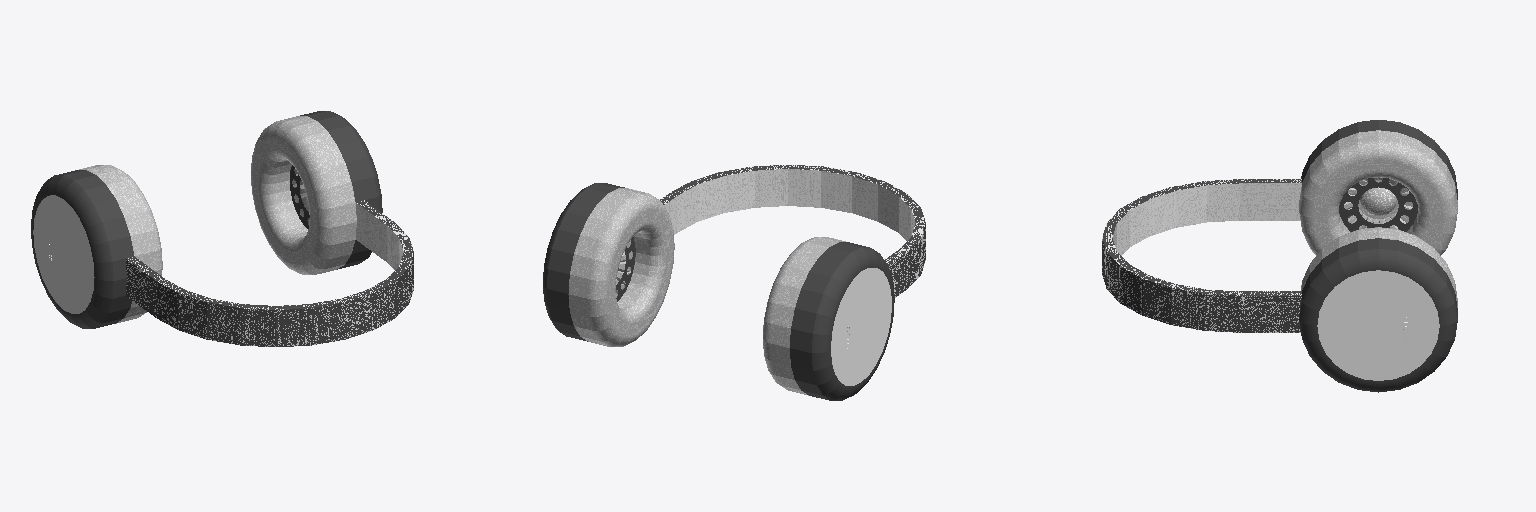
The model's file is model_align.obj.
3 renders of one model, left to right at view 1: azimuth 30°, elevation 25°; view 2: azimuth 150°, elevation 25°; view 3: azimuth 270°, elevation 25°, orthographic.
Parts seen in each view (by area): view 1: mesh39_mesh39-geometry, mesh25_mesh25-geometry, mesh40_mesh40-geometry; view 2: mesh25_mesh25-geometry, mesh39_mesh39-geometry, mesh40_mesh40-geometry; view 3: mesh39_mesh39-geometry, mesh40_mesh40-geometry, mesh25_mesh25-geometry, mesh12_mesh12-geometry.
Part boxes in pixels (x1,y1,x2,y2): mesh39_mesh39-geometry: (251, 111, 382, 274); mesh25_mesh25-geometry: (31, 165, 162, 328); mesh40_mesh40-geometry: (126, 200, 413, 346); mesh25_mesh25-geometry: (763, 237, 894, 400); mesh39_mesh39-geometry: (543, 183, 674, 346); mesh40_mesh40-geometry: (660, 165, 925, 297); mesh39_mesh39-geometry: (1299, 227, 1457, 392); mesh40_mesh40-geometry: (1102, 179, 1301, 332); mesh25_mesh25-geometry: (1299, 120, 1457, 255); mesh12_mesh12-geometry: (1344, 177, 1412, 228).
Bounding box in the file's own units: 0.1371 × 0.0656 × 0.1472.